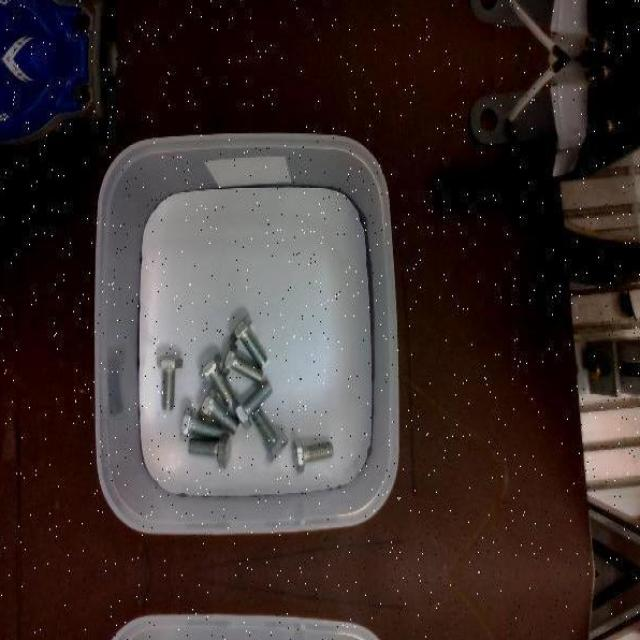screw: (233, 379, 274, 429), (198, 386, 240, 434), (252, 408, 289, 462), (230, 314, 267, 366), (199, 354, 235, 406), (221, 341, 263, 383), (188, 432, 232, 468), (156, 353, 184, 409), (180, 405, 223, 441), (292, 438, 334, 474)
